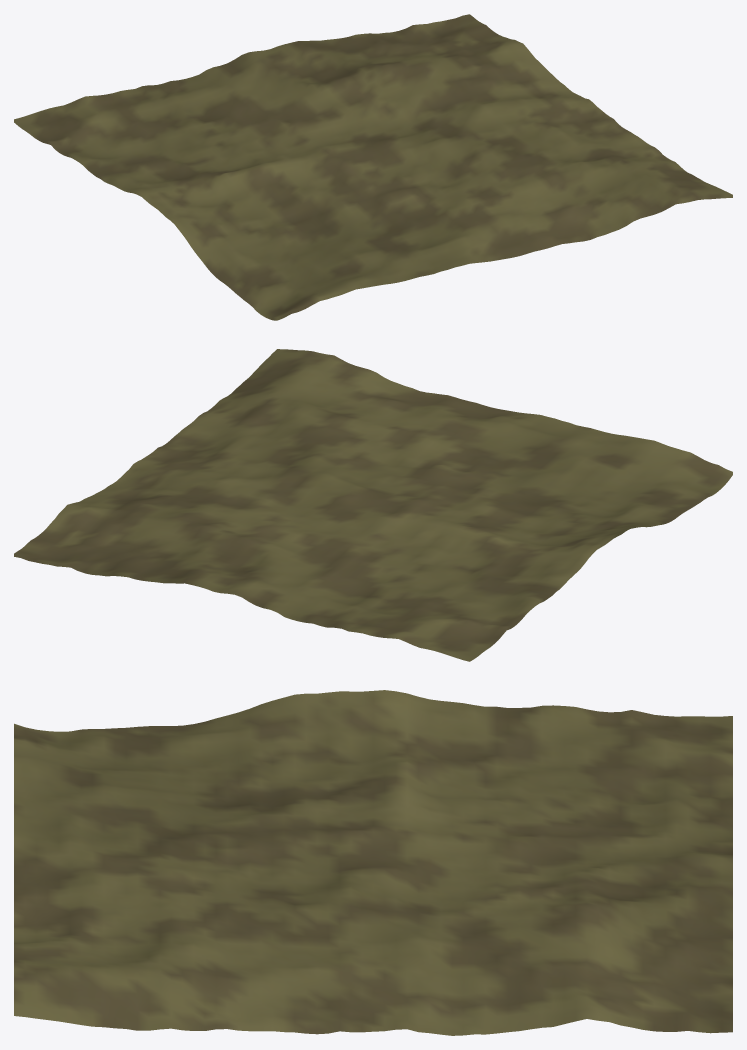
Rendered from land_f_09_07.glb.
The picture shows the model from 3 angles, top to bottom: view 1: azimuth 30°, elevation 25°; view 2: azimuth 150°, elevation 25°; view 3: azimuth 270°, elevation 25°; orthographic projection. The views are drawn at different scales.
Parts seen in each view (by area): view 1: land_f_09_07; view 2: land_f_09_07; view 3: land_f_09_07.
Part boxes in pixels (box(x1,y1,x2,y2)): land_f_09_07: box(14, 14, 732, 320); land_f_09_07: box(14, 349, 732, 661); land_f_09_07: box(14, 690, 732, 1035).
Size of the model in its own units: 3840 by 271 by 3840.
